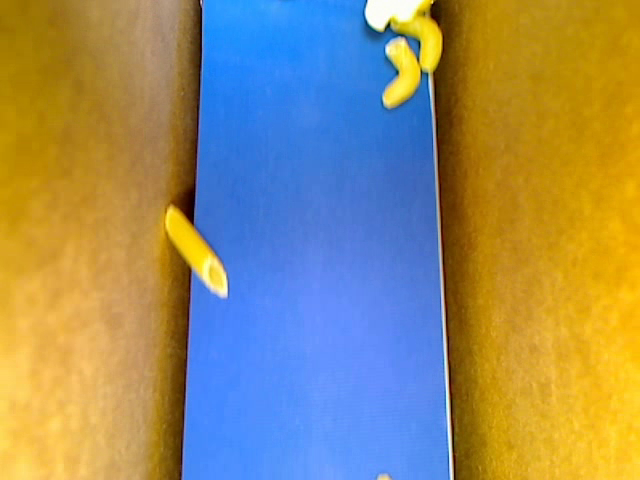elbow: (390, 14, 442, 72), (382, 37, 421, 109)
penne: (164, 203, 228, 297)
